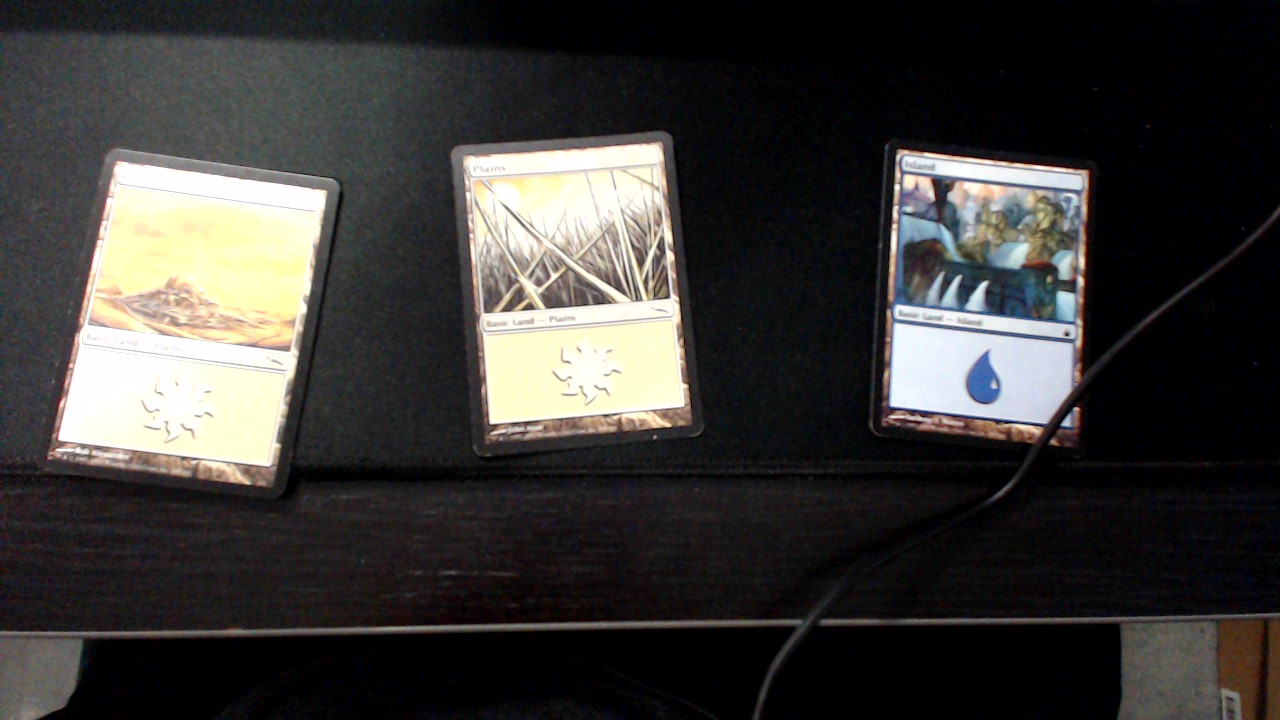MTG Card: (34, 143, 342, 513), (440, 123, 713, 462), (865, 134, 1106, 457)
